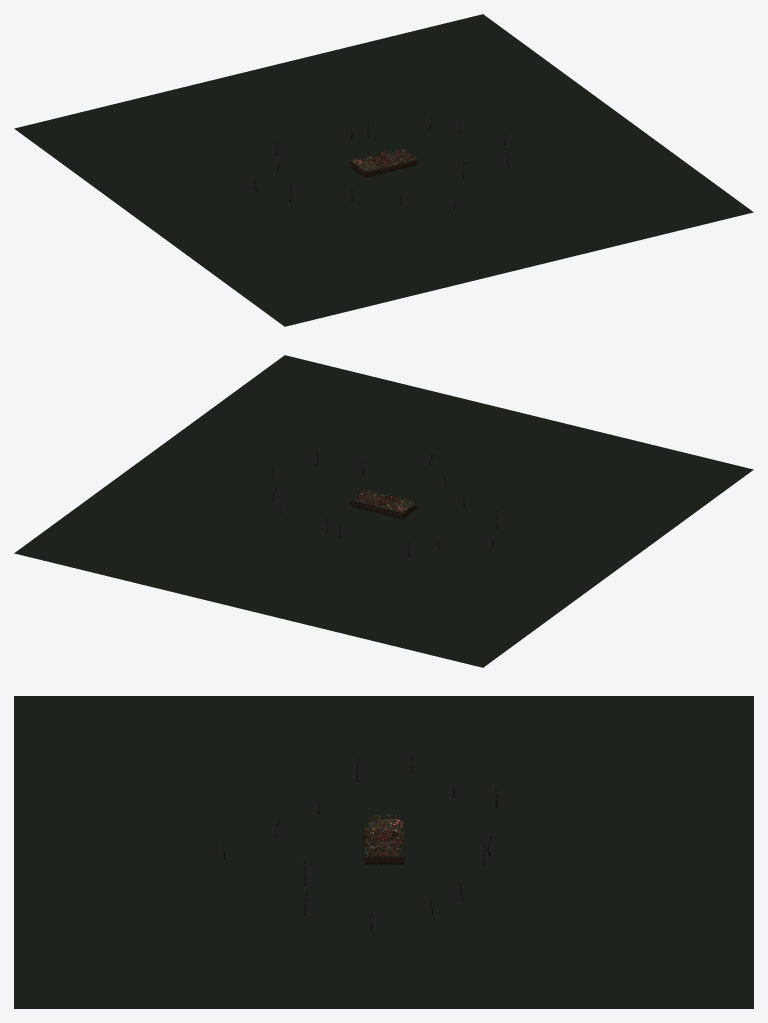
Rendered from DeadRoot-775781c216.glb.
3 renders of one model, top to bottom at view 1: azimuth 30°, elevation 25°; view 2: azimuth 150°, elevation 25°; view 3: azimuth 270°, elevation 25°, orthographic. The views are drawn at different scales.
Parts seen in each view (by area): view 1: surroundbog; view 2: surroundbog, silhouette; view 3: surroundbog, silhouette.
Part boxes in pixels (x1=…): surroundbog: x1=14, y1=14, x2=753, y2=326; surroundbog: x1=14, y1=355, x2=753, y2=667; silhouette: x1=269, y1=450, x2=503, y2=557; surroundbog: x1=14, y1=696, x2=753, y2=1008; silhouette: x1=220, y1=751, x2=504, y2=929.
Bounding box in the file's own units: 600 × 26.73 × 600.
Materials: 115 (82 with a texture image).
